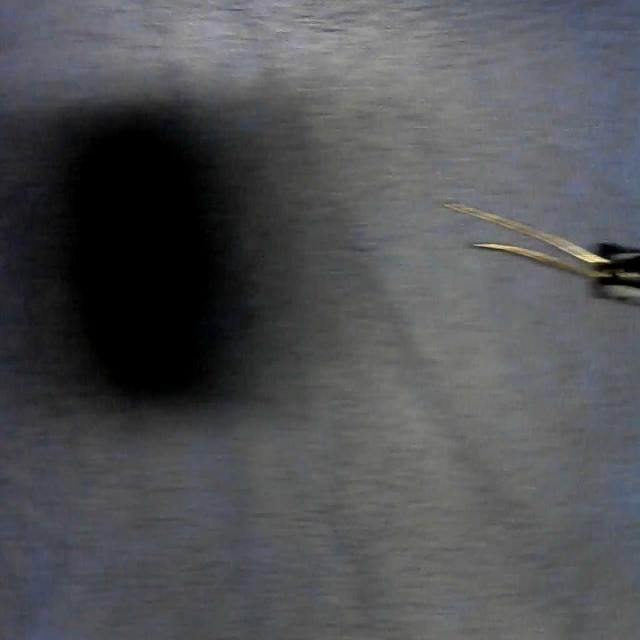capacitor: (450, 202, 640, 309)
